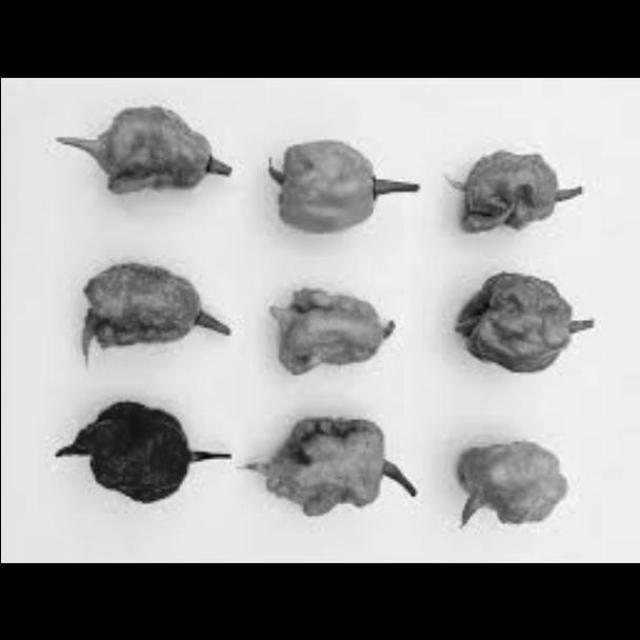hot pepper: (264, 101, 422, 248), (56, 399, 238, 519), (72, 87, 242, 214), (66, 250, 242, 372), (262, 409, 426, 522), (459, 264, 600, 382), (264, 268, 408, 372), (448, 421, 584, 528), (454, 142, 592, 240)
